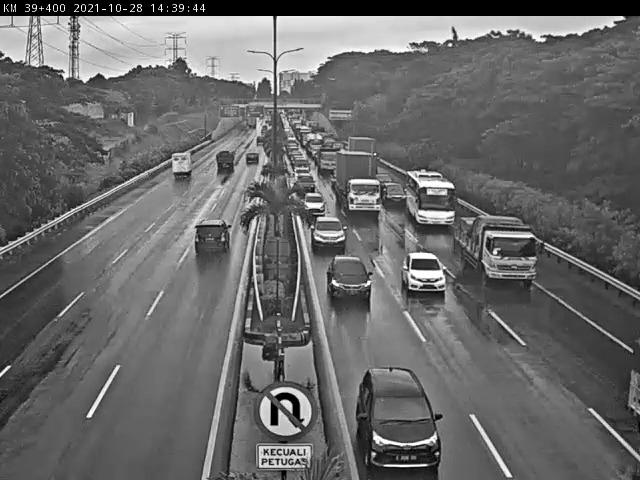big bus: (405, 169, 456, 225)
big truck: (336, 149, 381, 212)
car: (354, 366, 444, 472), (326, 257, 373, 301), (401, 253, 446, 294), (195, 218, 231, 254), (309, 216, 346, 251), (381, 178, 406, 204), (301, 189, 324, 214)
mid truck: (457, 213, 539, 284)
small truck: (171, 150, 194, 181), (211, 149, 236, 173)
